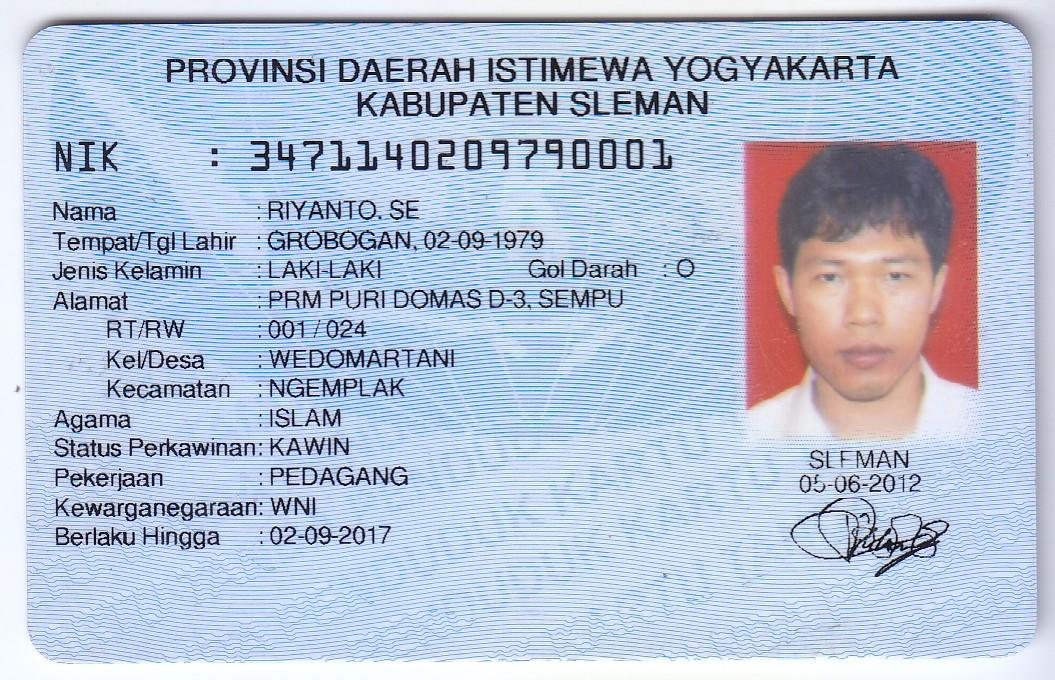ID-card: (28, 25, 1037, 658)
